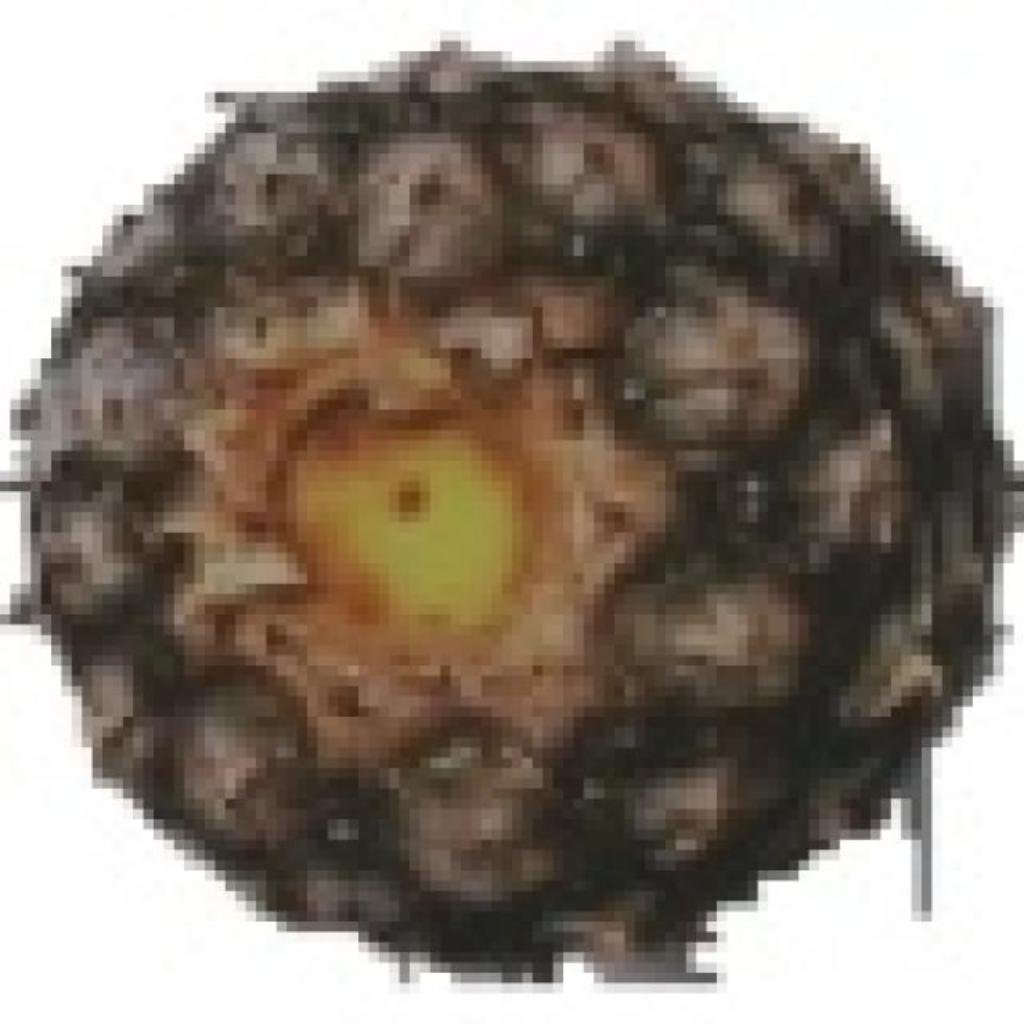pineapple: (10, 31, 983, 952)
